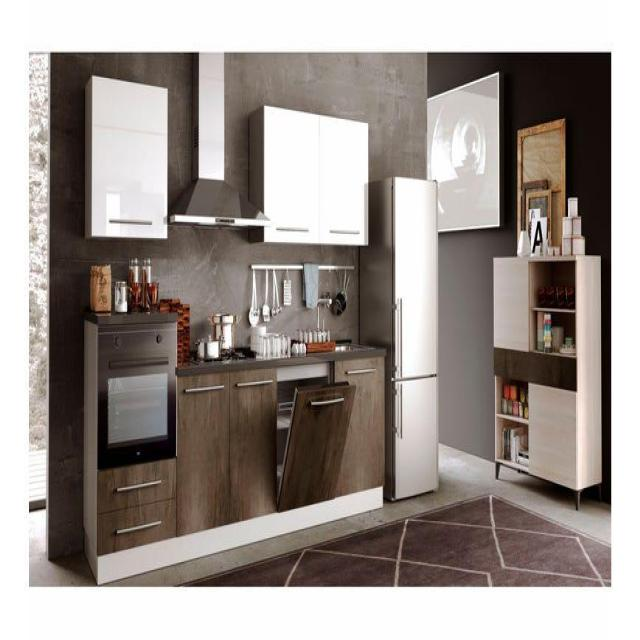dishwasher: (277, 362, 356, 516)
